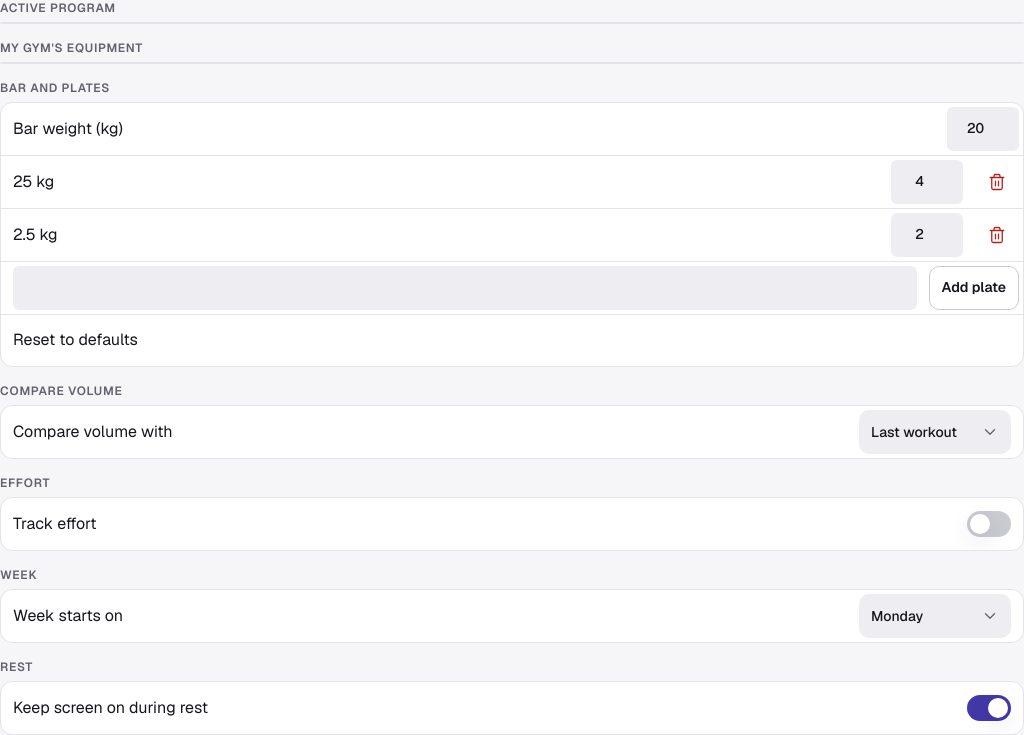
Test: O7 a refused pair count shows the service message inline and leaves the stored inventory as it was
The width and height of the screenshot is (1024, 735).
Replace the text in the number field named "Pairs of 25 kg" with "99" at (927, 182), box 891,160 -> 963,204
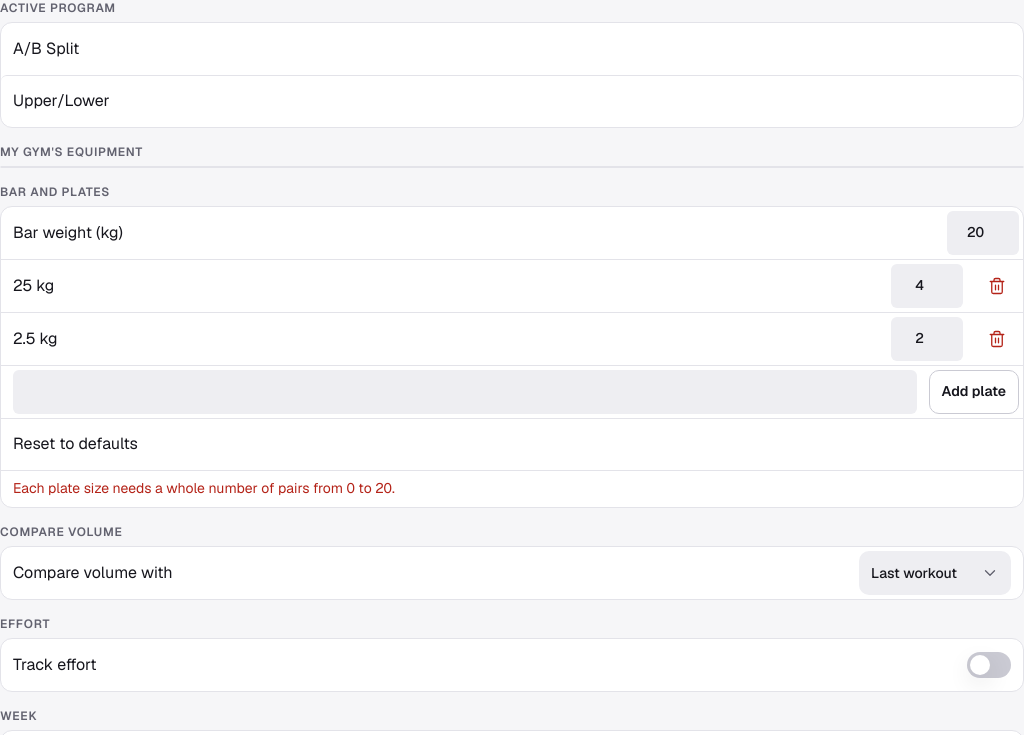
Expected: the number field named "Pairs of 25 kg" holds "4", 891,264 -> 963,308
Expected: the message reads "Each plate size needs a whole number of pairs from 0 to 20.", 13,479 -> 395,497
